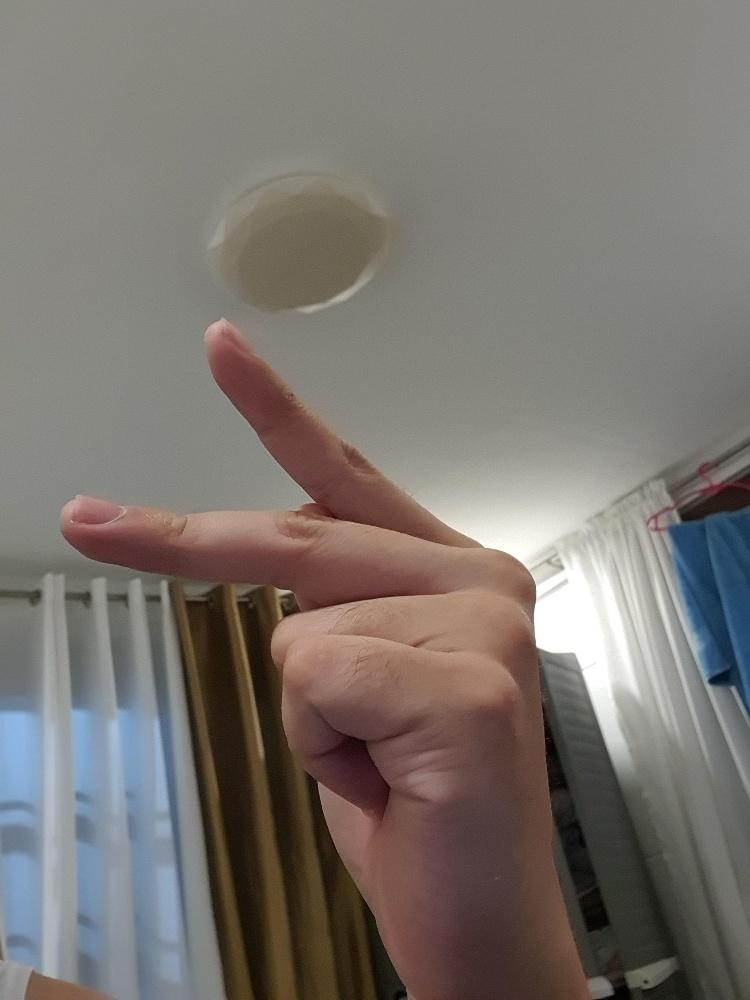k: (57, 313, 593, 999)
